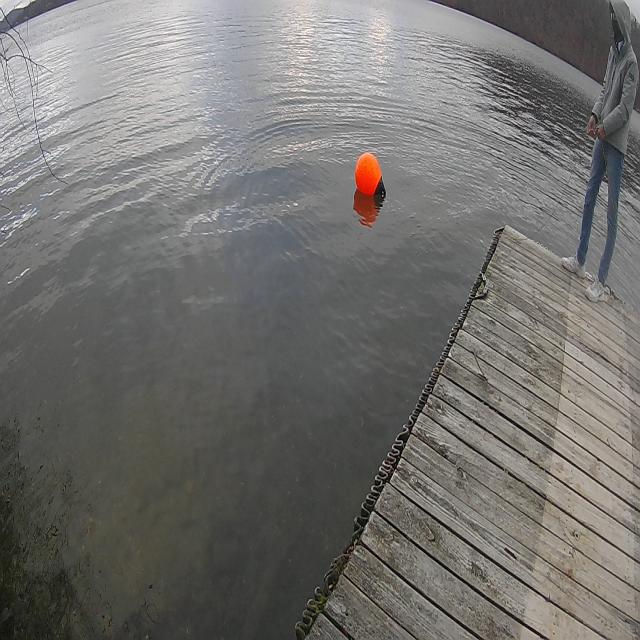Buoy: (353, 150, 388, 209)
